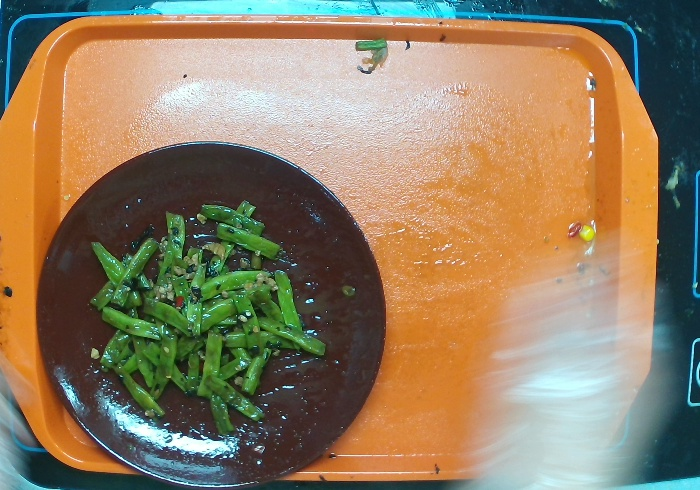HZYJPL-Ka_Fei_Yuan_Pan: (27, 116, 393, 490)
